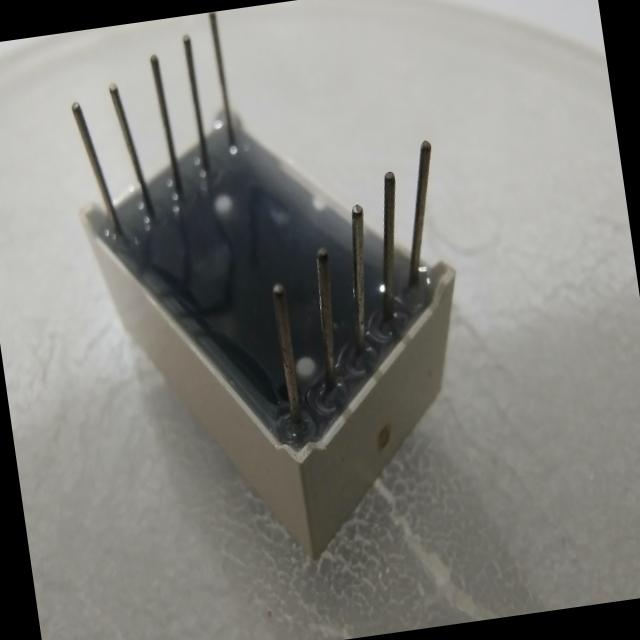7_segments: (34, 0, 512, 598)
